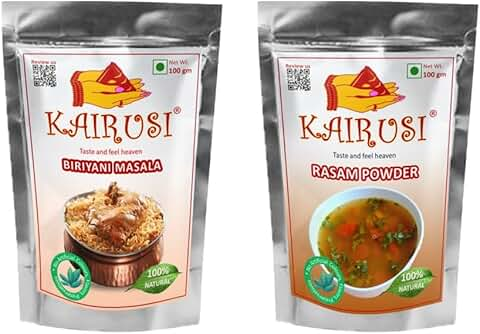Biryani: (1, 1, 229, 329)
